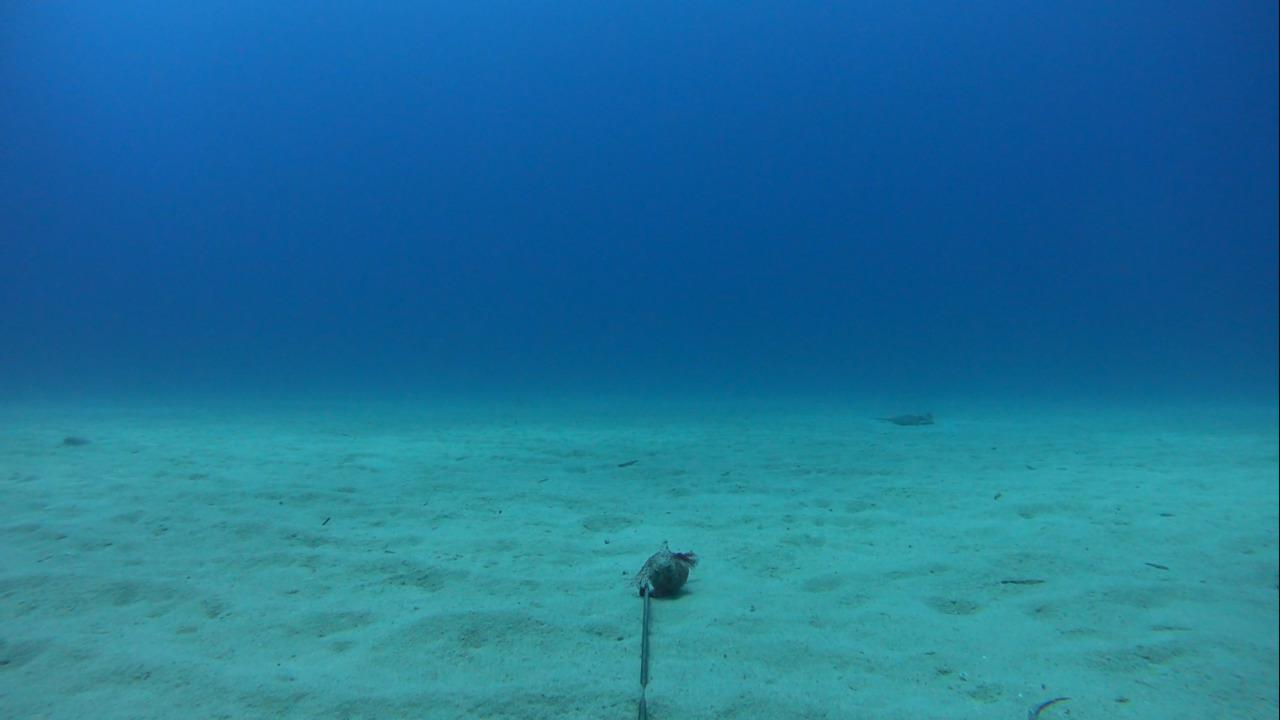myliobatis: (847, 406, 938, 433)
